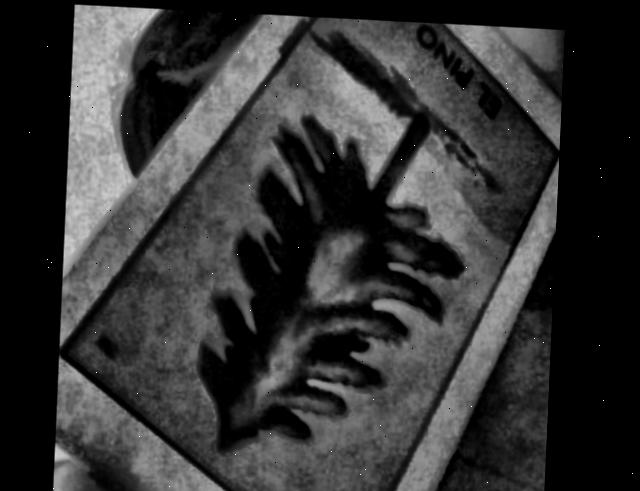El Pino: (67, 13, 559, 491)
